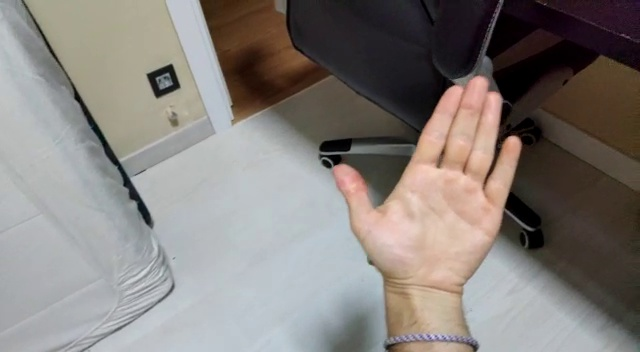Palm: (329, 73, 523, 305)
